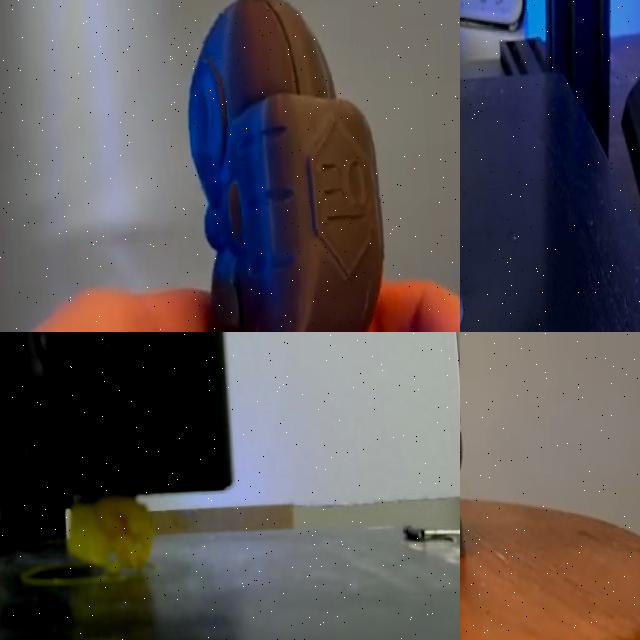spaghetti: (56, 492, 166, 585)
